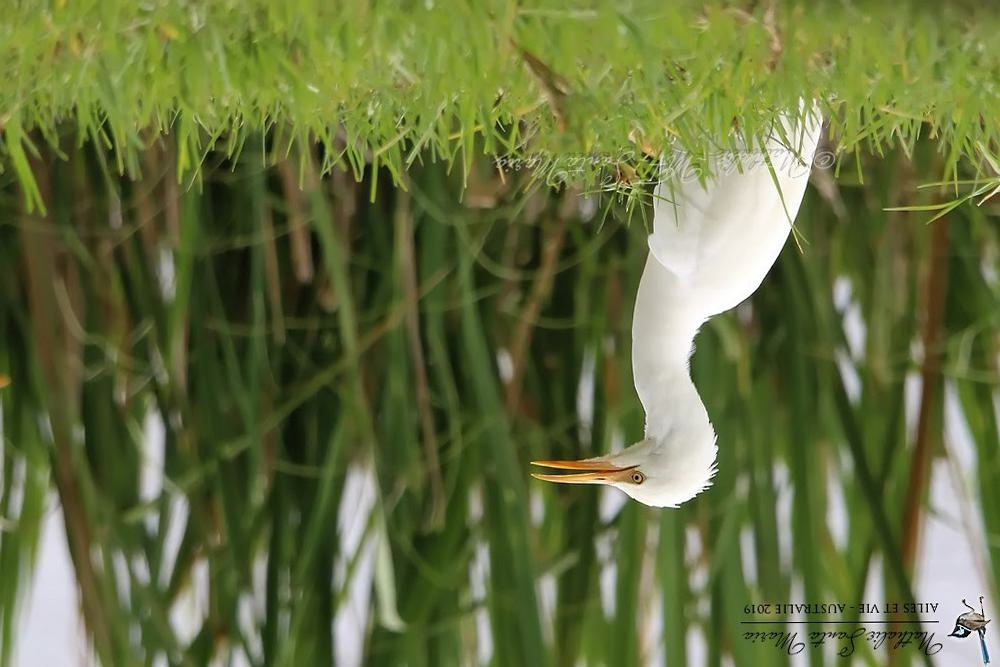egret: (520, 138, 842, 522)
